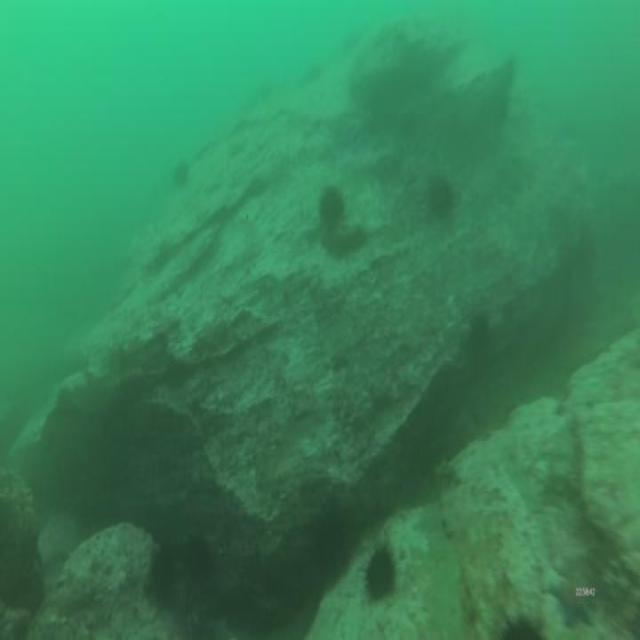echinus: (316, 509, 350, 572), (366, 546, 394, 598), (188, 537, 214, 577), (152, 553, 174, 594), (428, 178, 452, 215), (318, 191, 342, 226), (468, 316, 488, 351), (174, 163, 188, 183)
starfish: (552, 577, 593, 629)
